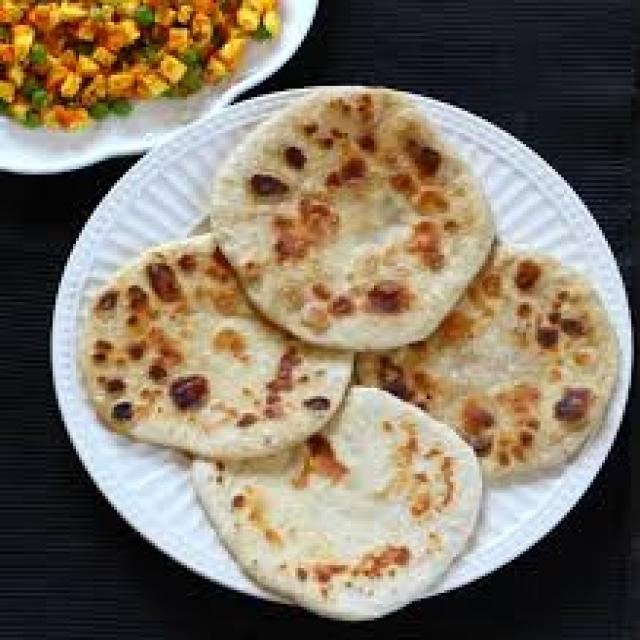BAJI: (2, 0, 291, 134)
ROTI: (217, 95, 496, 347), (193, 390, 487, 618), (78, 232, 357, 452), (355, 249, 615, 472)
